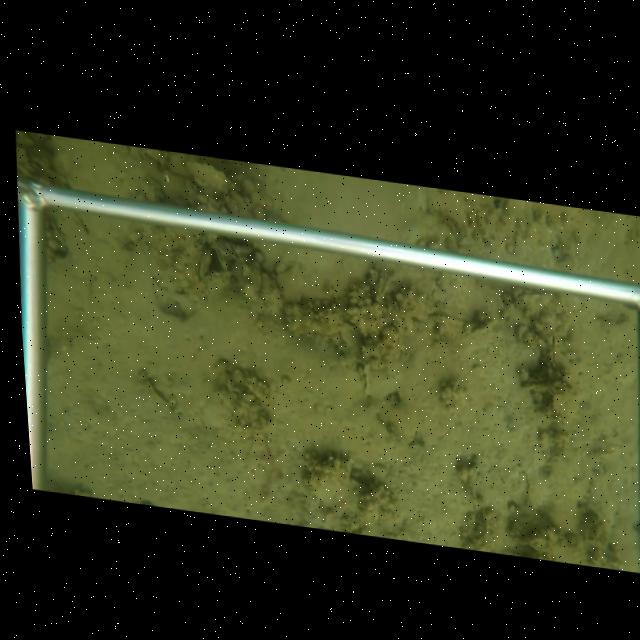Oyster-Closed: (547, 332, 567, 375), (193, 244, 211, 280), (210, 241, 230, 271), (362, 363, 372, 400)
Oyster-Indeterminate: (308, 453, 373, 518), (183, 159, 237, 197)
Oyster-Open: (222, 240, 244, 262)
